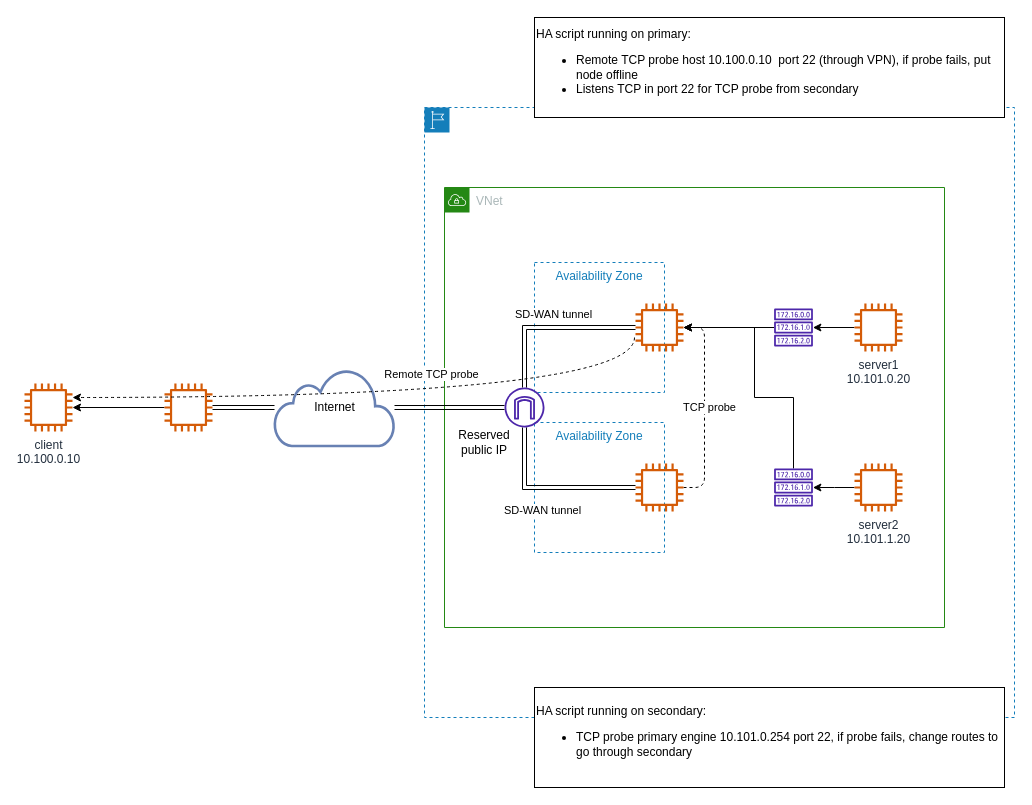
Some shapes in this 1032 by 805 pixel diagram are drawn without their labels. The box of each missing label's shape, as (x1, y1, x2, y2) in pixels:
HQ 10.100.0.254: (164, 383, 212, 431)
primary 10.101.0.254: (635, 303, 683, 351)
Region: (424, 106, 1014, 718)
secondary 10.101.1.254: (635, 463, 683, 511)
